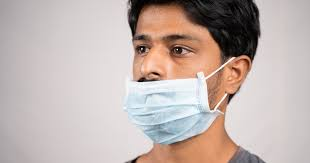mask_weared_incorrect: (123, 22, 253, 143)
